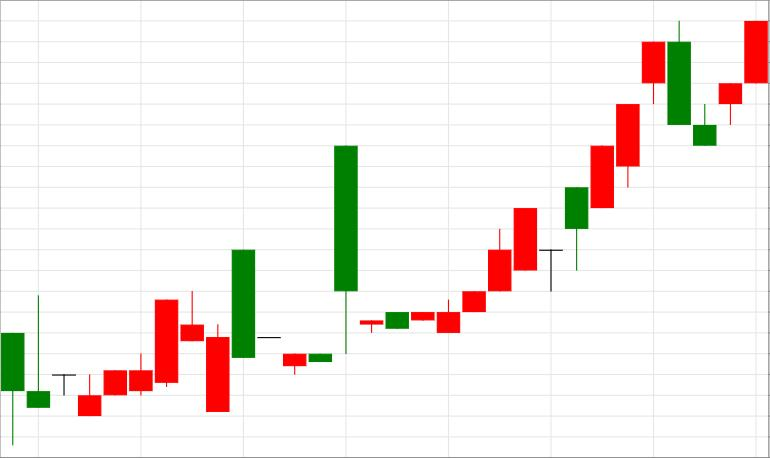bearish_engulfing_fall: (412, 22, 690, 333)
